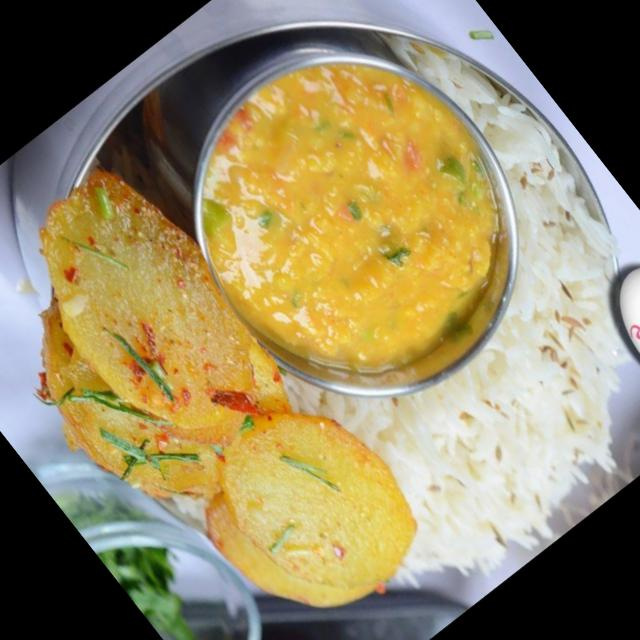dal: (207, 60, 498, 372)
rice: (285, 34, 632, 583)
